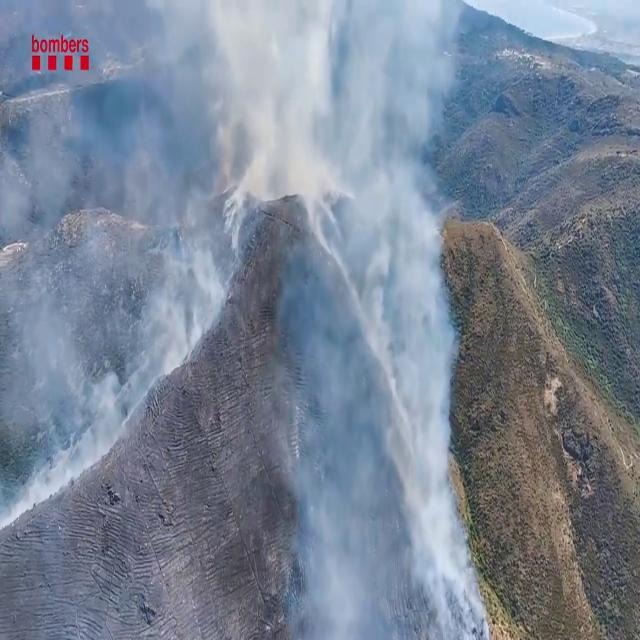Smoke: (234, 1, 486, 636), (0, 22, 236, 534)
